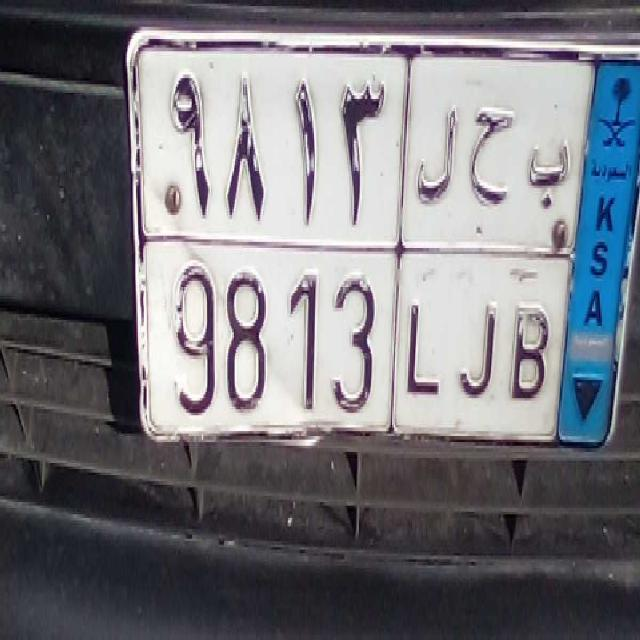license_plate: (149, 236, 559, 460)
